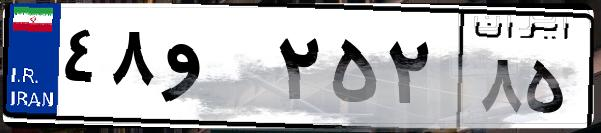2: (270, 28, 330, 110), (385, 28, 445, 110)
4: (57, 26, 110, 100)
5: (330, 28, 385, 110), (525, 38, 570, 115)
8: (475, 38, 525, 113), (110, 28, 158, 98)
و: (158, 20, 270, 120)
